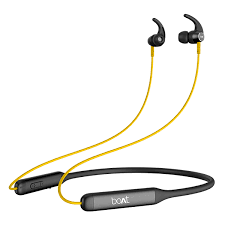earphone: (134, 10, 208, 95)
